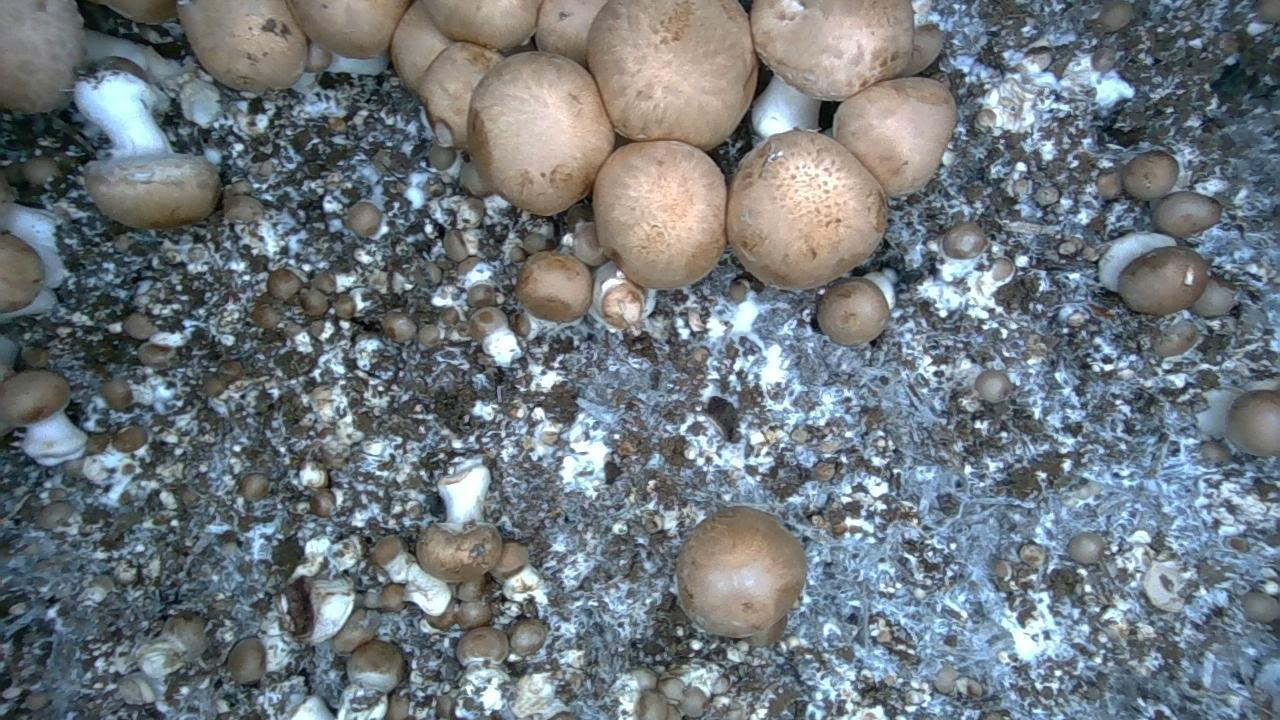BB: (726, 130, 887, 289), (587, 0, 756, 149), (468, 52, 613, 214), (593, 140, 726, 288), (676, 506, 806, 646), (750, 0, 914, 100), (833, 77, 956, 196), (177, 0, 306, 91), (85, 153, 220, 228), (418, 42, 503, 148), (287, 0, 410, 57), (1119, 247, 1208, 315), (423, 0, 540, 49), (390, 0, 451, 91), (516, 252, 592, 322), (415, 522, 502, 583), (817, 277, 889, 345), (535, 0, 605, 66), (0, 370, 69, 426), (1225, 390, 1279, 456), (1152, 191, 1221, 237), (1122, 151, 1178, 200), (900, 24, 943, 76), (330, 608, 379, 653), (456, 627, 509, 665), (92, 0, 176, 23), (227, 637, 265, 683), (1153, 321, 1199, 357), (489, 541, 529, 582), (942, 222, 987, 258), (1191, 279, 1234, 316), (573, 221, 606, 266), (509, 619, 546, 655), (469, 307, 508, 340), (975, 369, 1012, 402), (347, 202, 381, 236), (1068, 532, 1104, 564), (117, 674, 155, 704), (223, 194, 263, 222), (1243, 591, 1279, 622), (1098, 0, 1134, 31), (382, 311, 416, 343), (372, 534, 406, 566), (267, 269, 301, 299), (102, 379, 132, 410), (112, 425, 146, 452), (637, 690, 668, 719), (123, 313, 156, 340), (680, 686, 707, 717), (239, 473, 269, 500), (300, 289, 329, 316), (1018, 542, 1046, 569), (1096, 171, 1122, 200), (1091, 47, 1115, 71), (1256, 0, 1279, 23), (86, 434, 110, 454)
